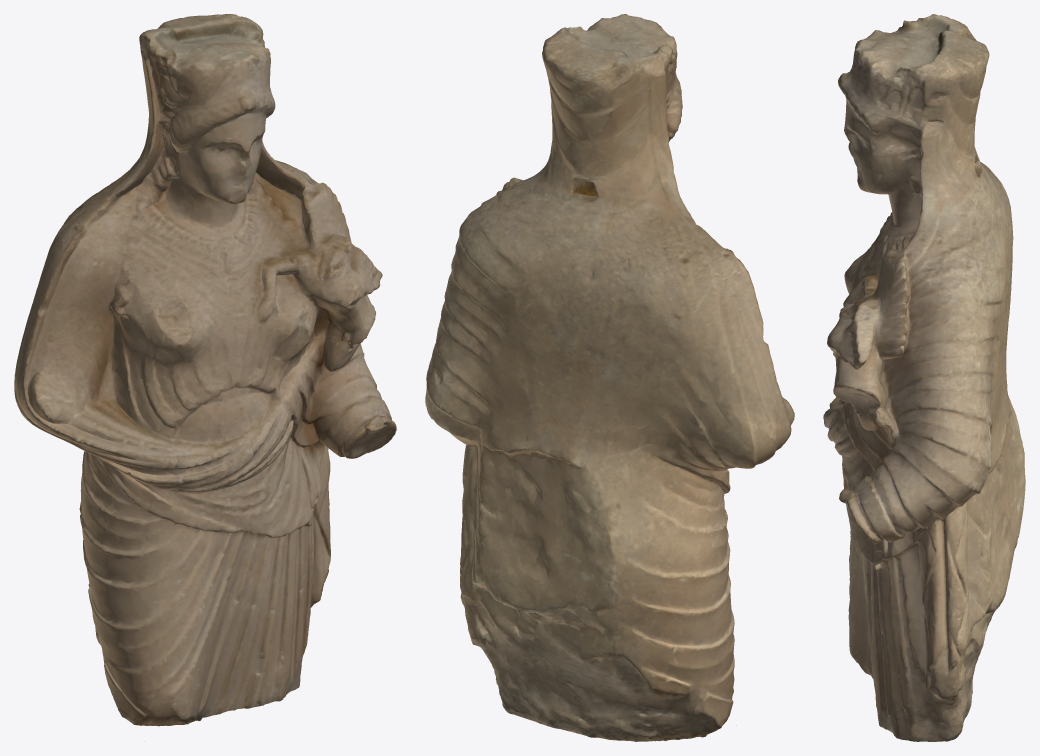
Rendered from aphrodite-eros.glb.
The picture shows the model from 3 angles, left to right: view 1: azimuth 30°, elevation 25°; view 2: azimuth 150°, elevation 25°; view 3: azimuth 270°, elevation 25°; orthographic projection. The views are drawn at different scales.
Visible parts, largest first — view 1: _n3d; view 2: _n3d; view 3: _n3d.
Boxes of the visible parts, x1=… form: _n3d: x1=14, y1=14, x2=396, y2=741; _n3d: x1=425, y1=14, x2=794, y2=741; _n3d: x1=823, y1=14, x2=1025, y2=741.
Bounding box in the file's own units: 0.6762 × 1.27 × 0.3524.
1 material, 1 textured.
